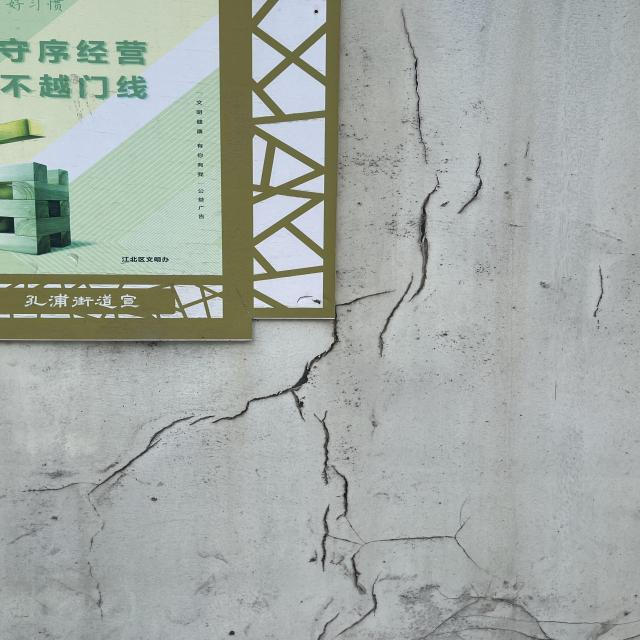crack: (39, 171, 551, 639), (383, 6, 447, 168)
